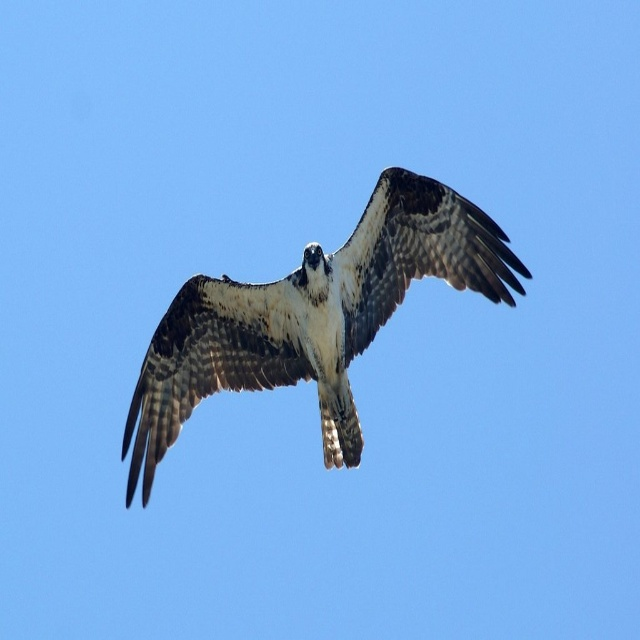Eagle: (121, 166, 534, 509)
